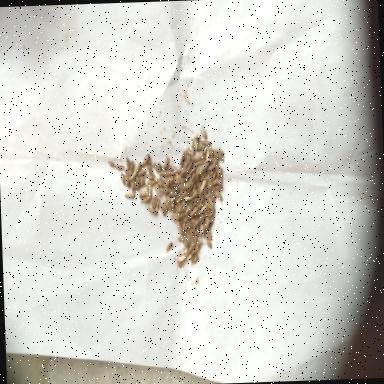pbw: (160, 157, 170, 173), (140, 153, 150, 169), (217, 143, 227, 158), (162, 178, 175, 188), (192, 137, 200, 152), (164, 196, 174, 208), (199, 126, 207, 140), (146, 164, 154, 178), (178, 150, 185, 166), (198, 180, 206, 194), (188, 172, 196, 186), (215, 191, 224, 203), (175, 220, 182, 235), (150, 195, 158, 208), (182, 232, 188, 249), (191, 244, 200, 255), (133, 176, 141, 188), (204, 202, 216, 210), (175, 256, 187, 264), (188, 207, 196, 219), (124, 155, 130, 170), (123, 176, 130, 188), (154, 182, 160, 196), (204, 216, 210, 230), (186, 161, 193, 173), (205, 240, 213, 250), (138, 189, 148, 197), (170, 213, 178, 223), (114, 164, 124, 172), (164, 241, 170, 254), (152, 162, 158, 174), (206, 164, 215, 172), (123, 192, 135, 198), (194, 164, 200, 176), (148, 207, 156, 216), (210, 172, 216, 184), (120, 172, 125, 186), (198, 206, 205, 216), (174, 193, 180, 204), (191, 191, 198, 200), (145, 174, 154, 181), (160, 206, 166, 216), (182, 194, 192, 200), (154, 198, 160, 208), (146, 180, 156, 186), (184, 150, 194, 156), (196, 202, 204, 209), (202, 140, 210, 147), (148, 185, 152, 199), (106, 161, 115, 167), (137, 170, 146, 176), (176, 166, 182, 175), (198, 224, 202, 237), (130, 181, 134, 194), (144, 186, 149, 196), (140, 176, 144, 188), (156, 160, 160, 172), (205, 150, 209, 162), (128, 162, 132, 174)
